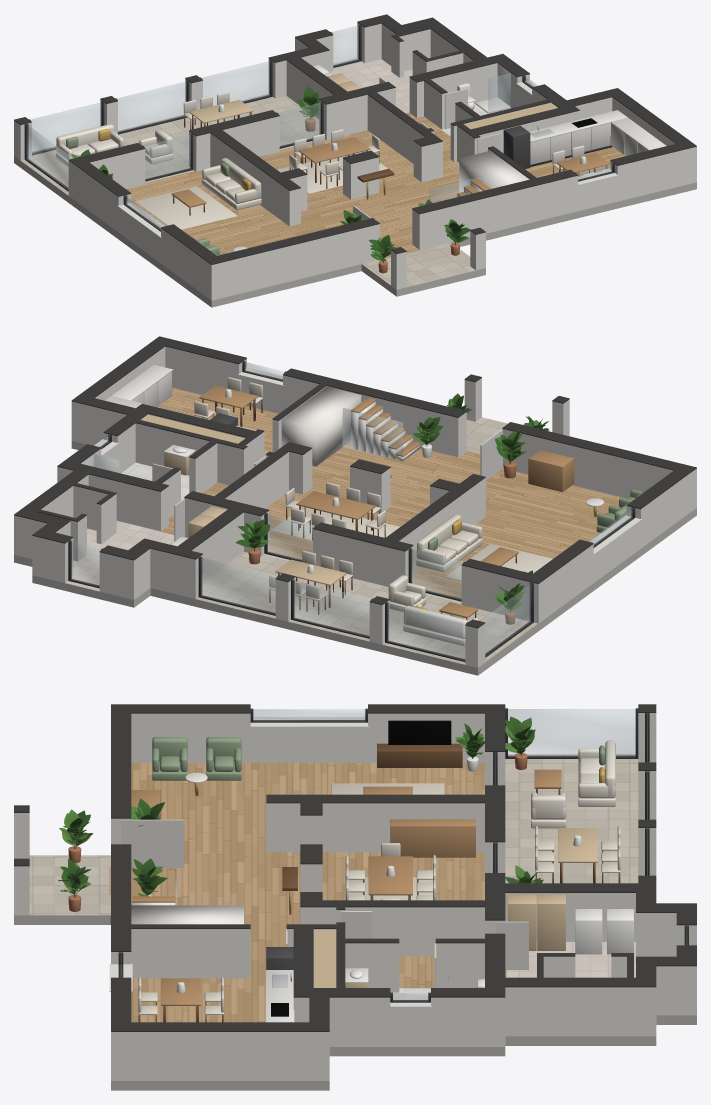
The picture shows the model from 3 angles, top to bottom: view 1: azimuth 30°, elevation 25°; view 2: azimuth 150°, elevation 25°; view 3: azimuth 270°, elevation 25°; orthographic projection. The views are drawn at different scales.
Parts seen in each view (by area): view 1: walls, floor, caps, Cube.028, Cube.061, Cube.032, Cube.024, Cube.059, Cube, Cube.036, Cube.004, sill (+18 smaller); view 2: walls, floor, caps, Cube.059, Cube.024, Cube.028, Cube.032, Cube.060, Cube, Cube.036, Cube.004, Cube.084 (+15 smaller); view 3: walls, floor, caps, Cube.036, sill, Cube.103, Cube.040, Cube.059, Cube.072, Cube.086, Cube.136, sill.002 (+18 smaller).
Part boxes in pixels (left/top/right/bottom): walls: left=14, top=22, right=696, bottom=300; floor: left=14, top=58, right=696, bottom=307; caps: left=14, top=14, right=696, bottom=264; Cube.028: left=117, top=81, right=186, bottom=132; Cube.061: left=135, top=186, right=237, bottom=229; Cube.032: left=202, top=61, right=269, bottom=105; Cube.024: left=30, top=102, right=101, bottom=152; Cube.059: left=459, top=151, right=529, bottom=192; Cube: left=144, top=134, right=190, bottom=179; Cube.036: left=27, top=125, right=72, bottom=188; Cube.004: left=278, top=102, right=320, bottom=146; sill: left=118, top=207, right=160, bottom=263; walls: left=14, top=346, right=696, bottom=667; floor: left=14, top=387, right=696, bottom=675; caps: left=14, top=336, right=696, bottom=628; Cube.059: left=281, top=387, right=361, bottom=466; Cube.024: left=388, top=603, right=466, bottom=659; Cube.028: left=294, top=580, right=370, bottom=636; Cube.032: left=201, top=558, right=276, bottom=613; Cube.060: left=343, top=408, right=402, bottom=461; Cube: left=411, top=549, right=463, bottom=598; Cube.036: left=480, top=584, right=530, bottom=654; Cube.004: left=267, top=514, right=314, bottom=560; Cube.084: left=528, top=450, right=574, bottom=492; walls: left=14, top=713, right=696, bottom=1080; floor: left=14, top=754, right=696, bottom=1090; caps: left=14, top=704, right=696, bottom=1031; Cube.036: left=508, top=709, right=635, bottom=756; sill: left=250, top=727, right=367, bottom=762; Cube.103: left=390, top=819, right=475, bottom=857; Cube.040: left=121, top=819, right=184, bottom=867; Cube.059: left=131, top=905, right=243, bottom=924; Cube.072: left=377, top=743, right=462, bottom=767; Cube.086: left=368, top=856, right=412, bottom=895; Cube.136: left=537, top=894, right=565, bottom=950; sill.002: left=390, top=1007, right=430, bottom=1046.
Size of the model in its own units: 17.5 by 1.64 by 15.44.
27 materials, 1 textured.
